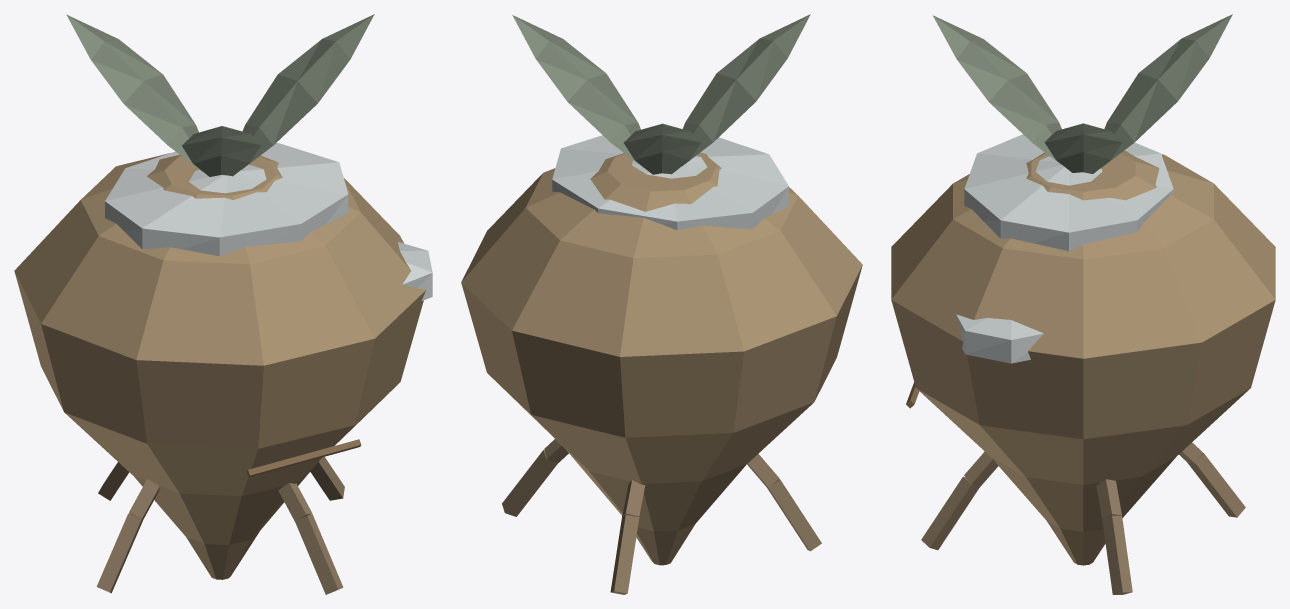
The model's file is winter_root.glb.
3 renders of one model, left to right at view 1: azimuth 30°, elevation 25°; view 2: azimuth 150°, elevation 25°; view 3: azimuth 270°, elevation 25°, orthographic. The views are drawn at different scales.
Visible parts, largest first — view 1: item; view 2: item; view 3: item.
Part boxes in pixels (x1,y1,x2,y2): item: (14, 14, 432, 594); item: (461, 14, 862, 594); item: (891, 14, 1275, 594).
Size of the model in its own units: 0.28 by 0.39 by 0.2663.
